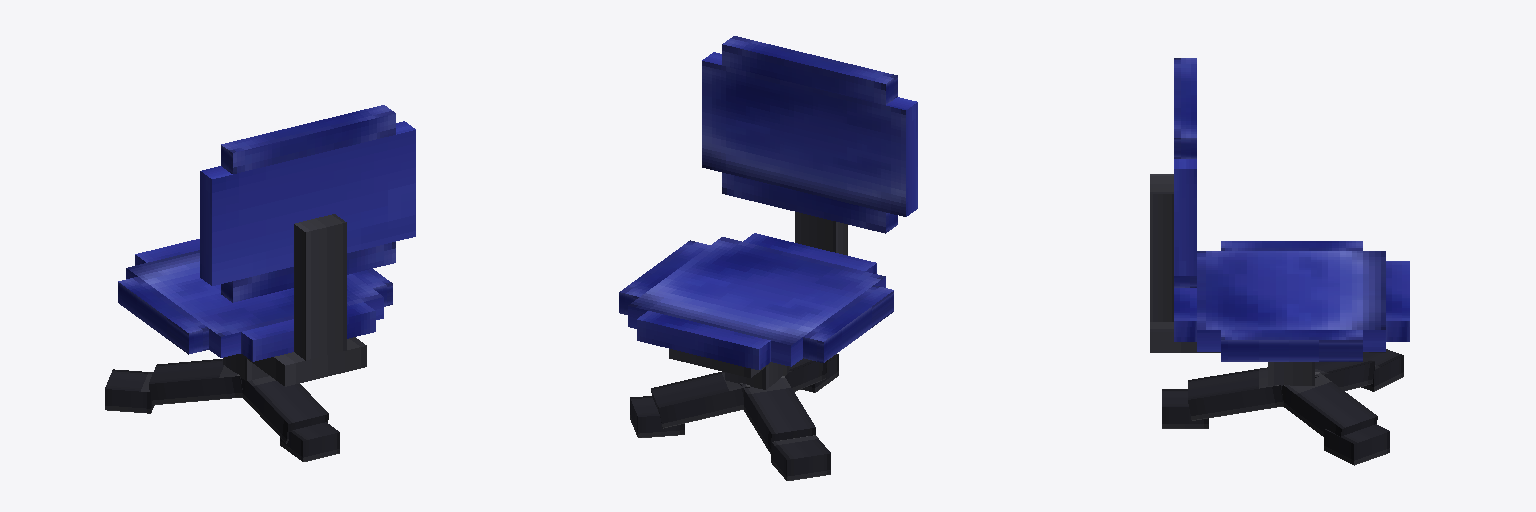
The picture shows the model from 3 angles: view 1: azimuth 30°, elevation 25°; view 2: azimuth 150°, elevation 25°; view 3: azimuth 270°, elevation 25°; orthographic projection.
Visible parts, largest first — view 1: cube; view 2: cube; view 3: cube.
Part boxes in pixels (x1,y1,x2,y2): cube: (105,105,415,461); cube: (619,36,917,480); cube: (1150,58,1409,465).
Size of the model in its own units: 0.657 by 0.9375 by 0.6875.
1 materials, 1 textured.